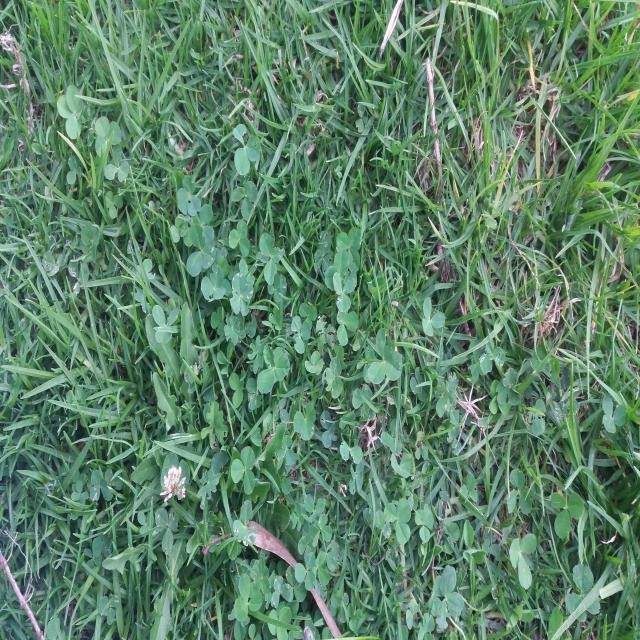Four Leaf Clover: (160, 452, 190, 500), (57, 85, 83, 139), (229, 272, 253, 314), (224, 316, 240, 346)
